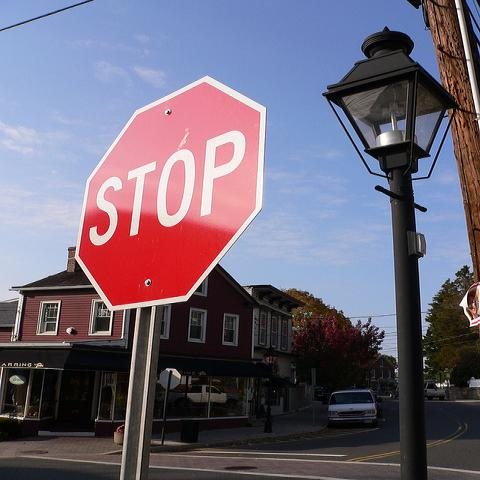car: (329, 389, 379, 428), (314, 388, 330, 401), (386, 386, 398, 399)
truck: (327, 389, 385, 429), (166, 385, 227, 406), (424, 382, 447, 401)
